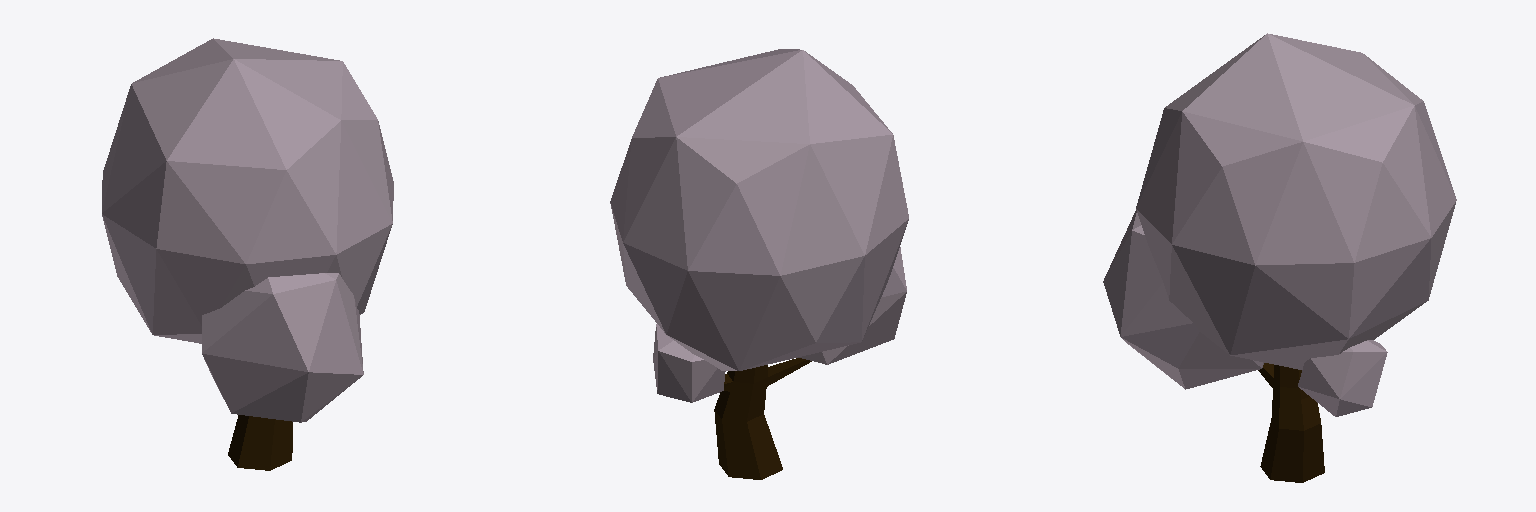
File: tree1.obj
3 views of the same model, side by side, from view 1: azimuth 30°, elevation 25°; view 2: azimuth 150°, elevation 25°; view 3: azimuth 270°, elevation 25° (orthographic).
Parts seen in each view (by area): view 1: Icosphere.007_Icosphere.010, Cylinder.008_Cylinder.005; view 2: Icosphere.007_Icosphere.010, Cylinder.008_Cylinder.005; view 3: Icosphere.007_Icosphere.010, Cylinder.008_Cylinder.005.
Part boxes in pixels (x1,y1,x2,y2): Icosphere.007_Icosphere.010: (102,38,393,422); Cylinder.008_Cylinder.005: (228,415,292,470); Icosphere.007_Icosphere.010: (610,49,908,402); Cylinder.008_Cylinder.005: (714,358,811,479); Icosphere.007_Icosphere.010: (1103,33,1456,416); Cylinder.008_Cylinder.005: (1258,363,1324,482).
Bounding box in the file's own units: 10.08 × 15.99 × 12.28.